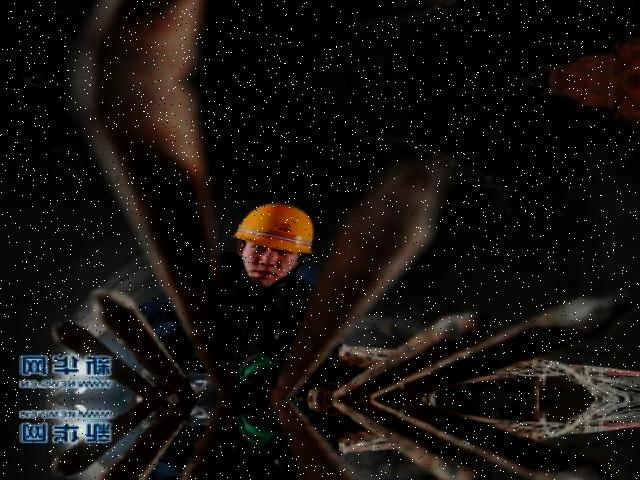Helmet: (226, 198, 322, 262)
